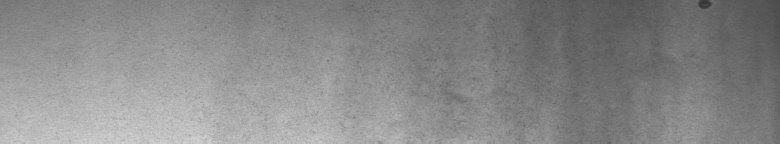fi: (696, 4, 716, 15)
